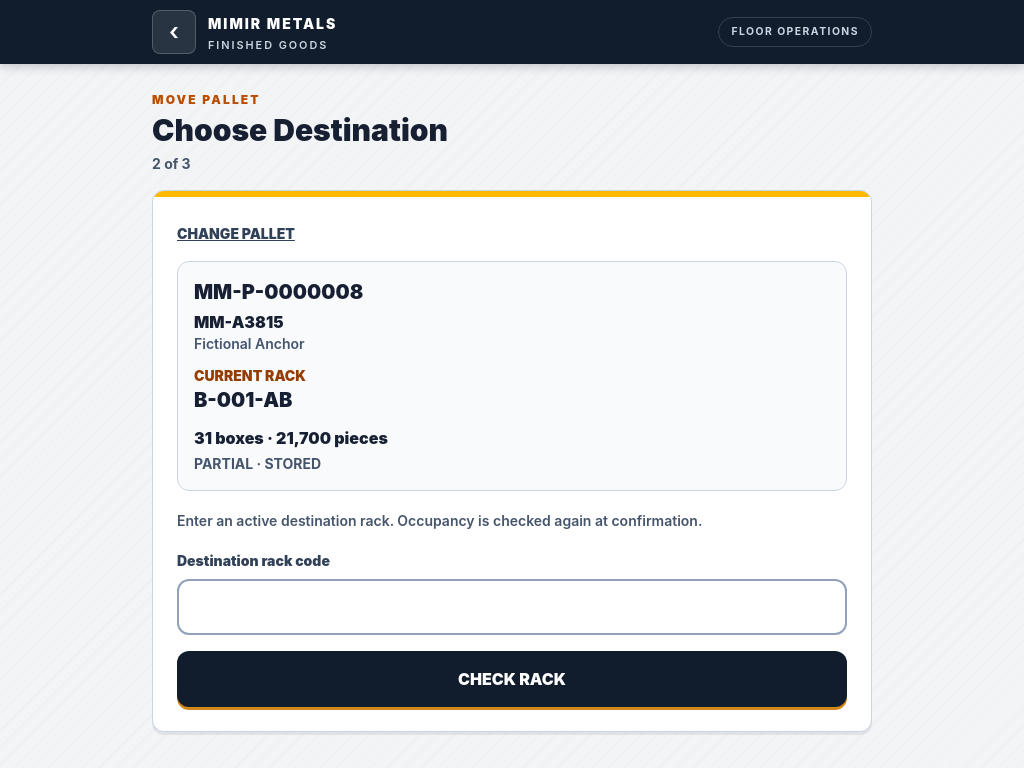
MovePalletPage › preselects a Find pallet via reload-safe URL
expect the text "B-001-AB" is shown: met, box [194,388,292,412]
Type "b-003-ac" into the field labelled "Destination rack code" at [512, 606], box [177,578,847,634]
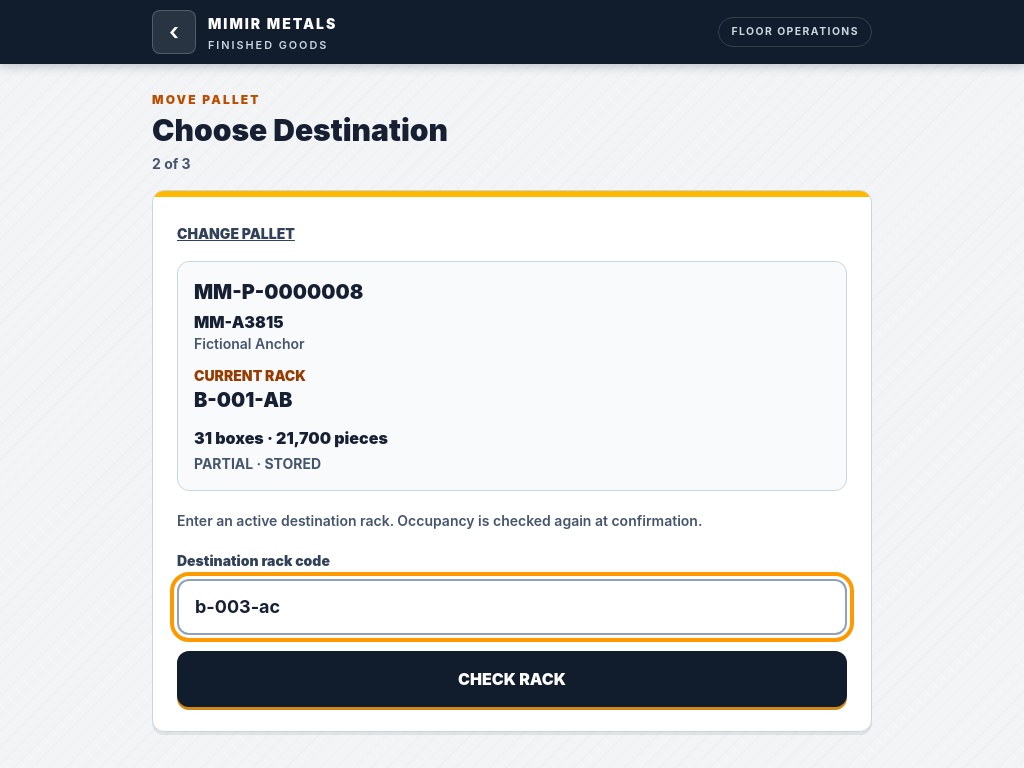
Click the button "CHECK RACK" at [512, 678], box [177,650,847,706]
(page scrolled)
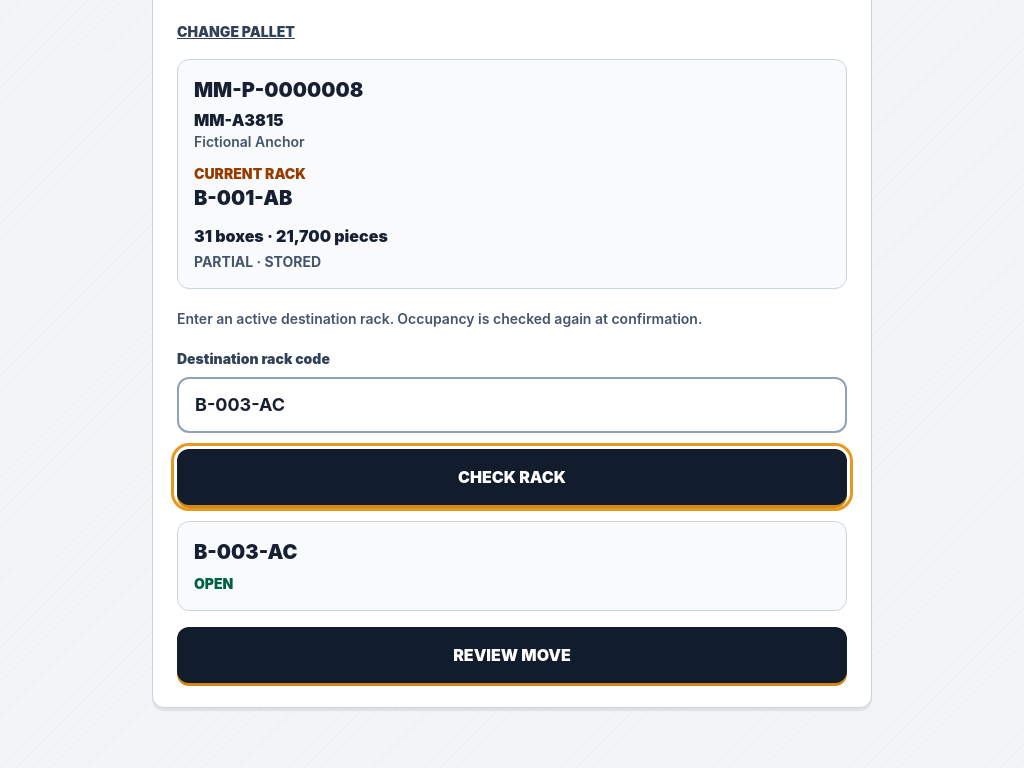
expect the text "OPEN" is shown: met, box [194,574,233,592]
